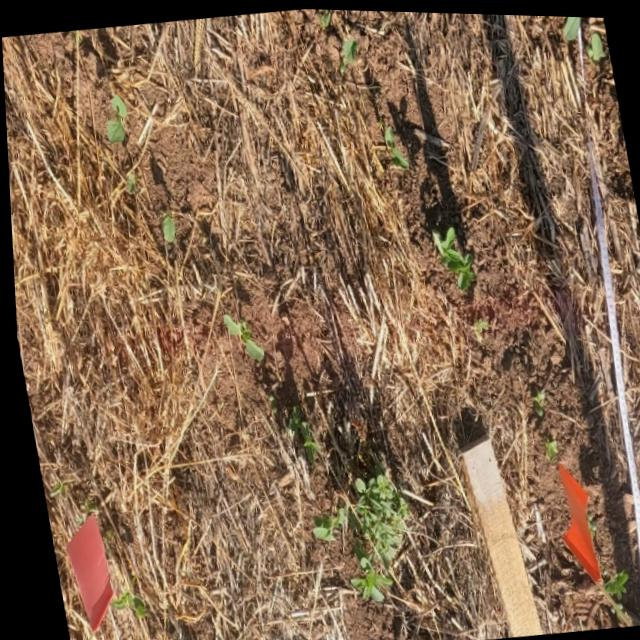caruru_weed: (307, 471, 403, 598)
soy_plant: (430, 224, 474, 286), (220, 313, 260, 359), (284, 404, 315, 460), (104, 94, 126, 141), (104, 588, 140, 616), (598, 566, 623, 597), (339, 36, 357, 70), (585, 28, 605, 58), (562, 13, 582, 36), (162, 214, 173, 241), (539, 436, 553, 457), (384, 124, 393, 144)
